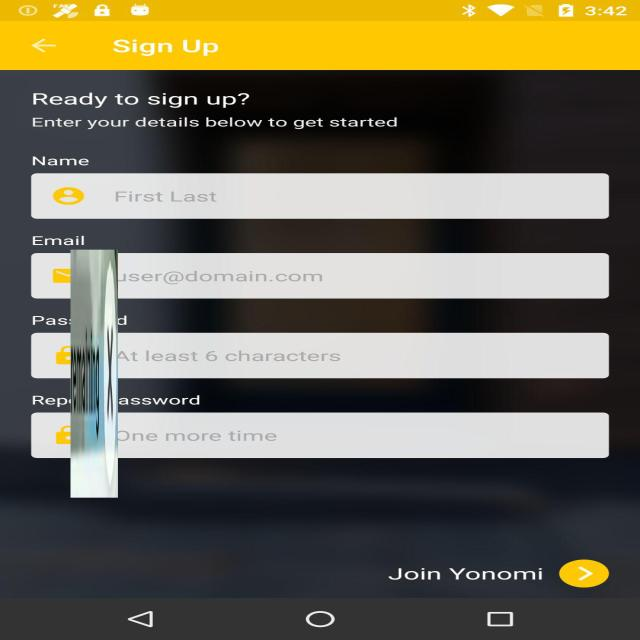misdirection: (70, 250, 118, 498)
